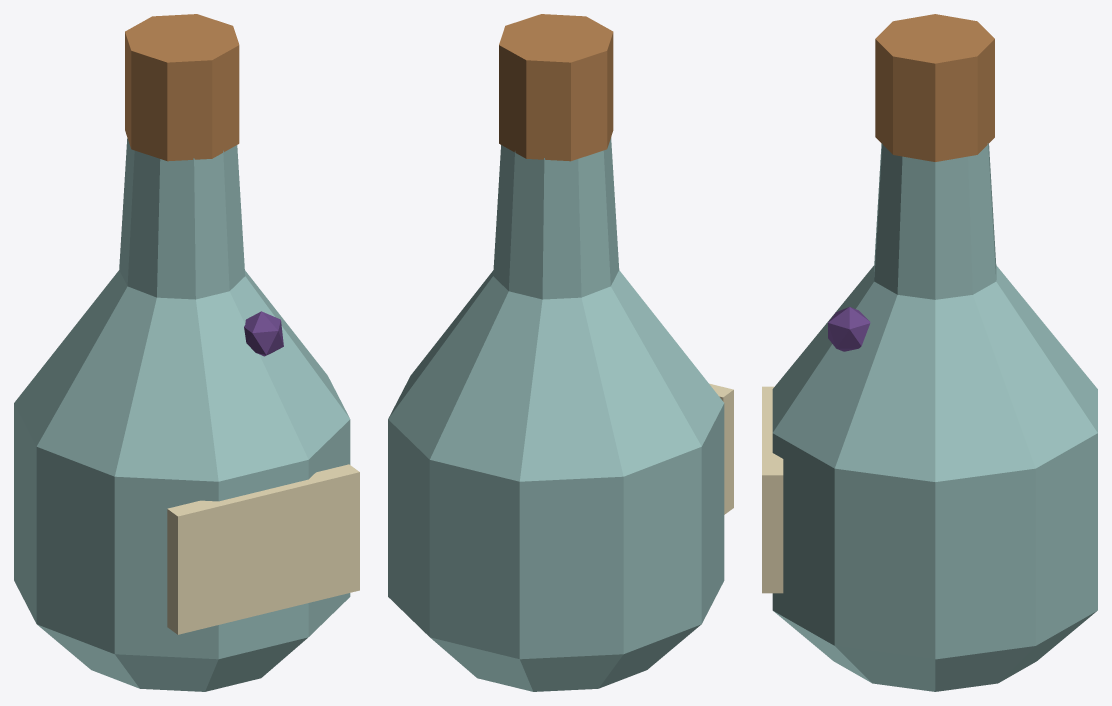
The model's file is MysteriousConcoction.fbx.
The picture shows the model from 3 angles, left to right: view 1: azimuth 30°, elevation 25°; view 2: azimuth 150°, elevation 25°; view 3: azimuth 270°, elevation 25°; orthographic projection.
Parts seen in each view (by area): view 1: MysteriousConcoction; view 2: MysteriousConcoction; view 3: MysteriousConcoction.
Boxes of the visible parts, bbox=[...] form: MysteriousConcoction: bbox=[14, 14, 359, 691]; MysteriousConcoction: bbox=[388, 14, 733, 691]; MysteriousConcoction: bbox=[762, 14, 1097, 691].
Bounding box in the file's own units: 0.8 × 1.6 × 0.8.
